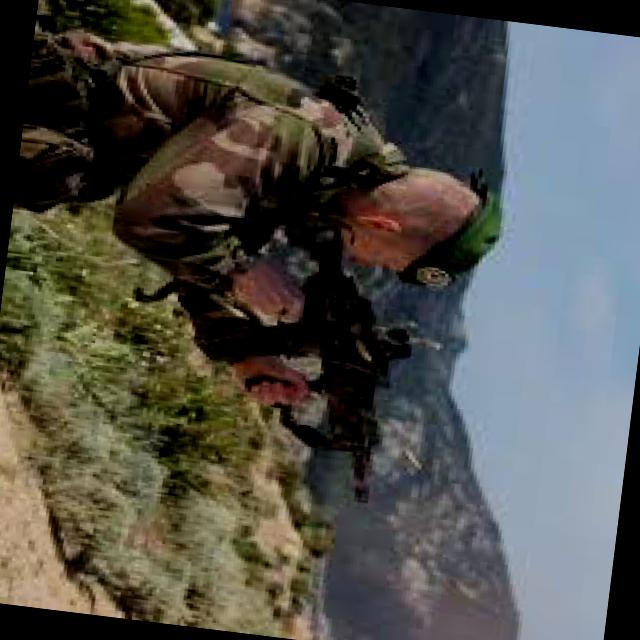long weapon: (186, 258, 446, 524)
